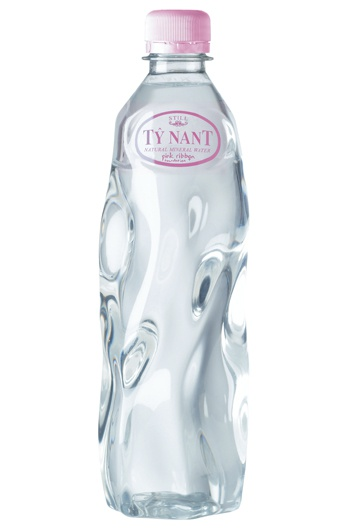emptybottle: (99, 8, 248, 518)
